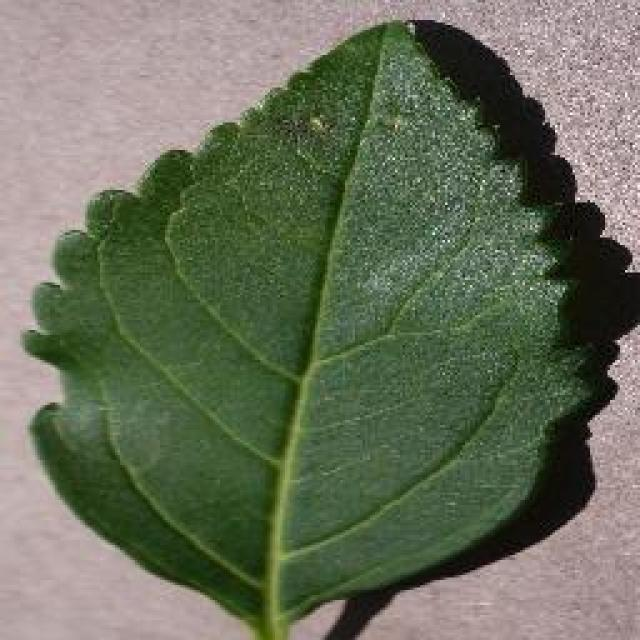Cherry___healthy: (61, 40, 531, 604)
